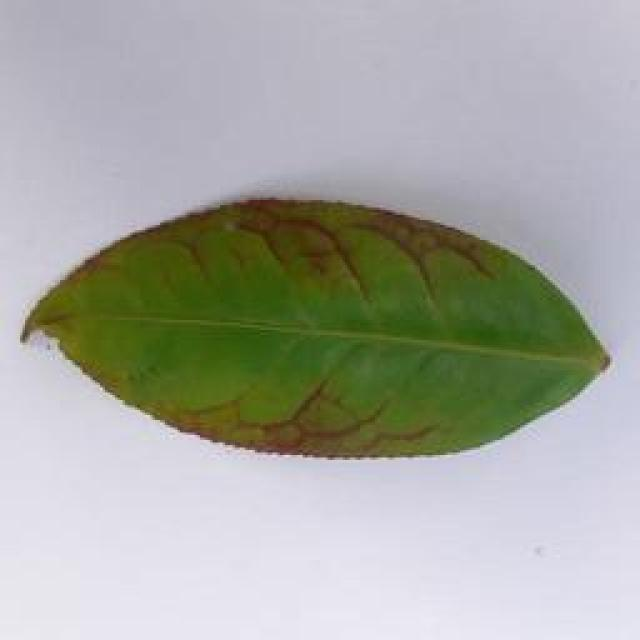Red Leaf Spot: (2, 195, 640, 477)
